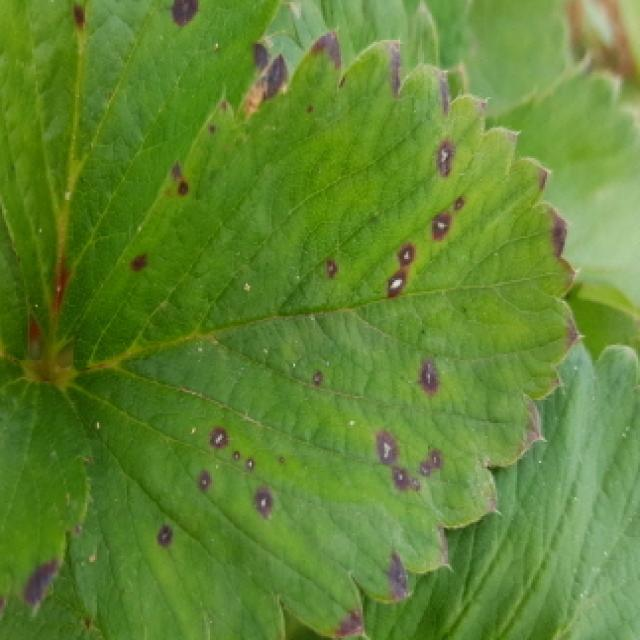Leaf Spot: (47, 27, 584, 640)
